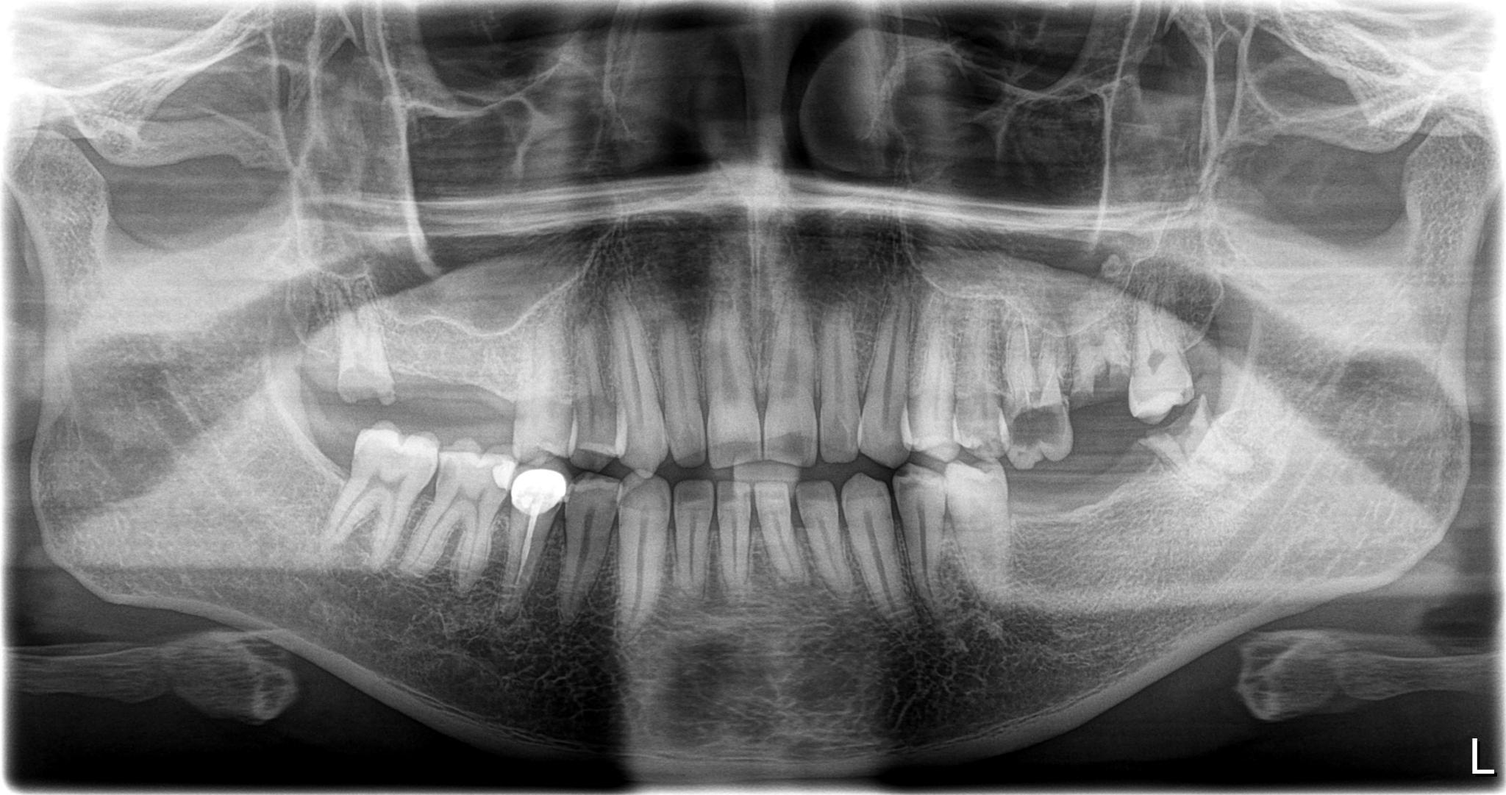Dental Caries: (1002, 404, 1066, 453)
Endodontically Treated Tooth: (511, 463, 561, 600)
Missing Tooth: (1004, 476, 1073, 598), (1085, 465, 1145, 594), (401, 336, 461, 432), (456, 342, 514, 441)
Tooth Fracture: (318, 287, 398, 406), (1142, 423, 1267, 495), (1066, 327, 1127, 419)
